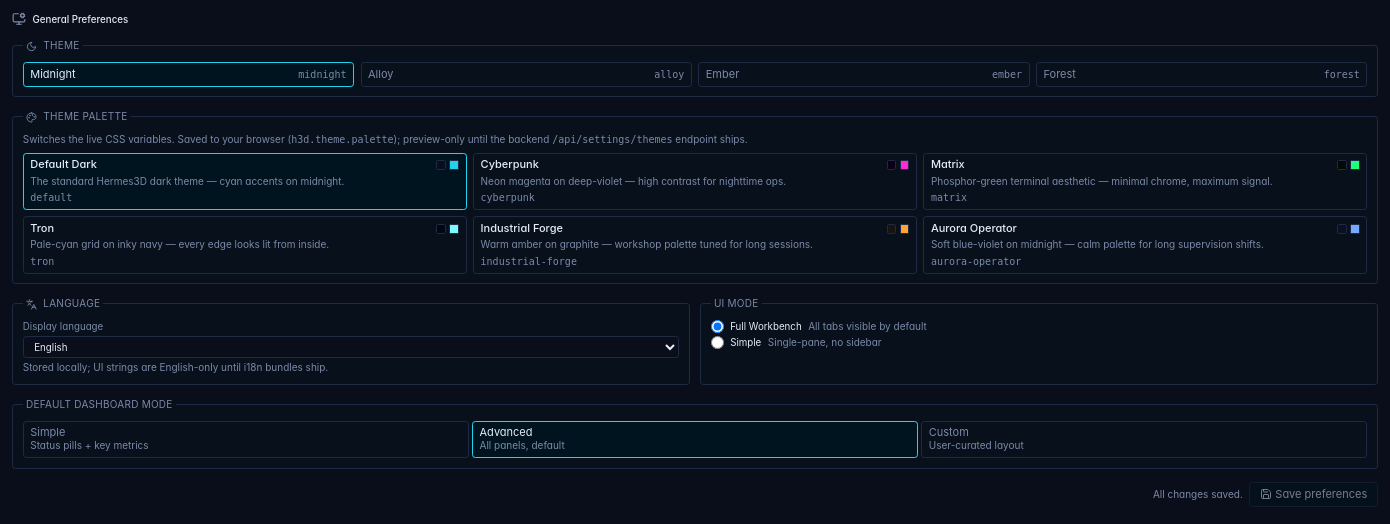
Test: GeneralSubtab › save button disabled until a field changes
The image size is (1390, 524).
Check: the button with test id "settings-general-save" is disabled, box [1249,482,1378,507]
Click the radio button with test id "settings-general-theme-alloy" at (669, 74), box [360,62,692,87]
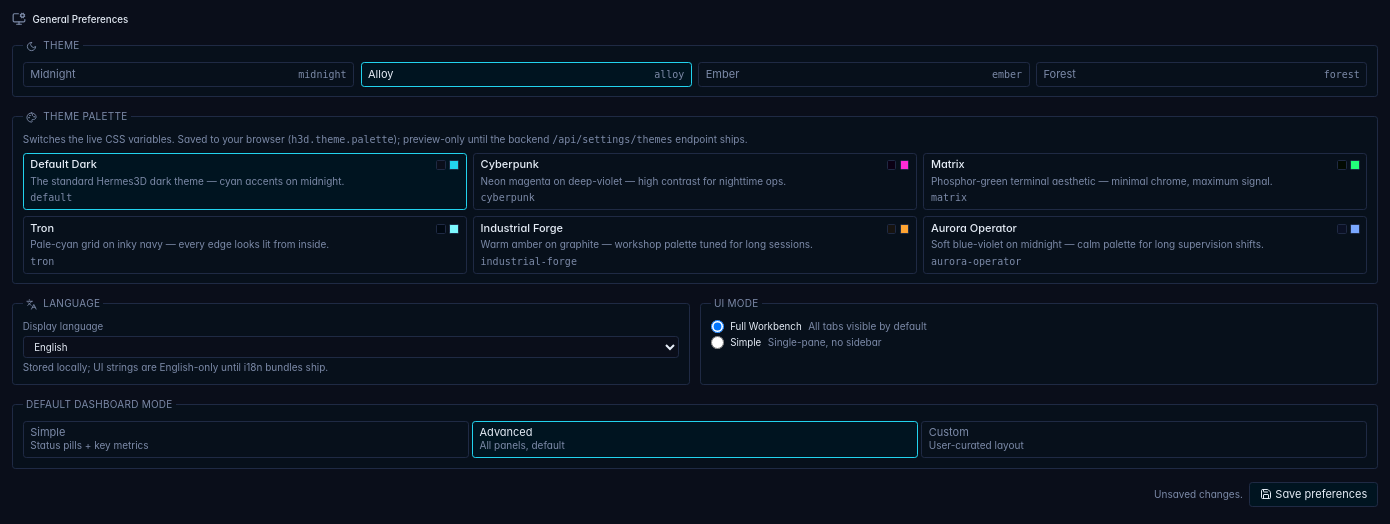
Check: the button with test id "settings-general-save" is enabled, box [1249,482,1378,507]
